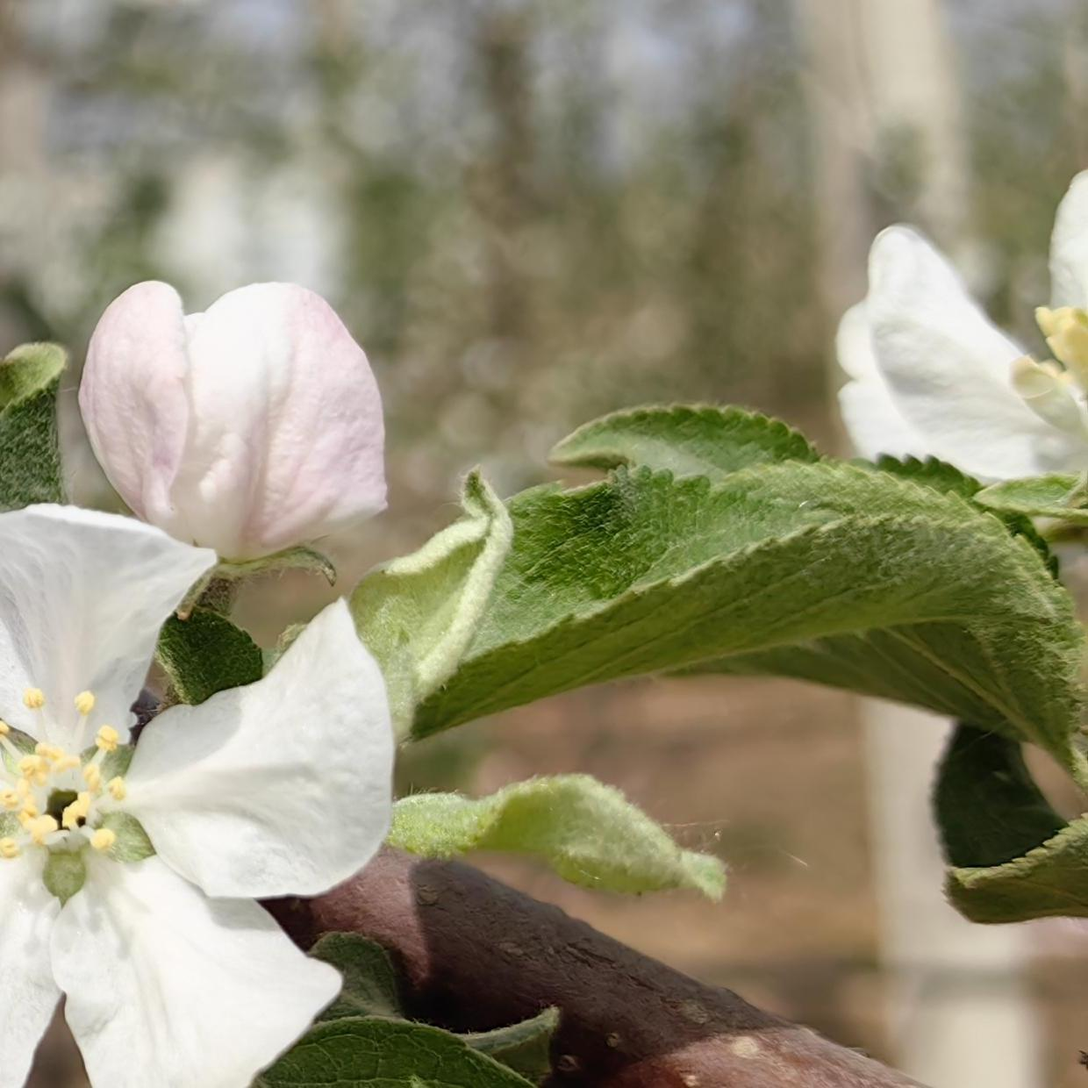apple_flower: (0, 503, 397, 1088), (844, 170, 1088, 482)
